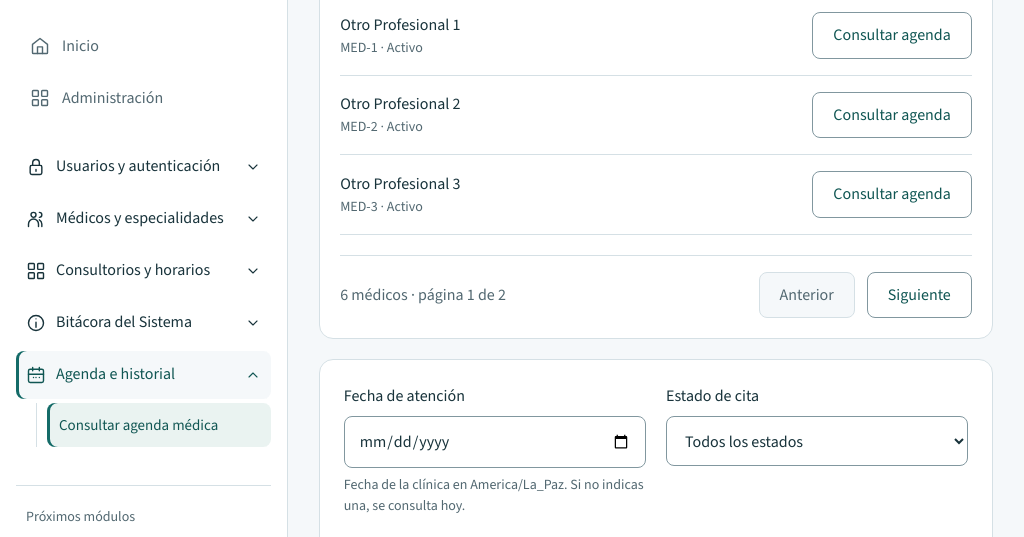
selector tiene búsqueda y paginación propias, sin alterar selección hasta elegir otro Médico
(page scrolled)
Click the button "Siguiente" at [919, 295], box [867,272,972,318]
(page scrolled)
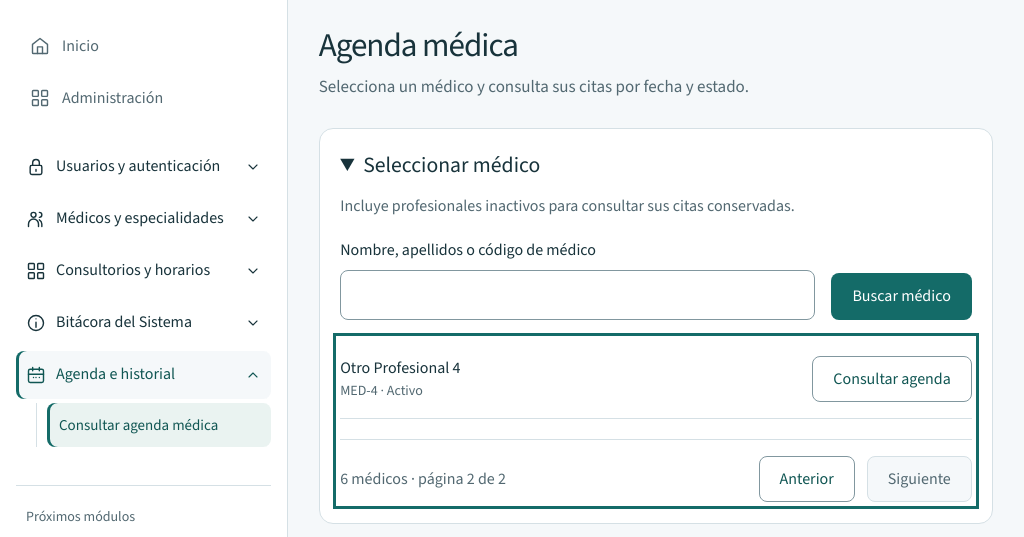
Check: the button with aria-label "Consultar agenda de Otro Profesional 4" is shown, box [812,356,972,402]
Type "Profesional 0" into the field labelled "Nombre, apellidos o código de médico" at [578, 295], box [340,270,815,320]
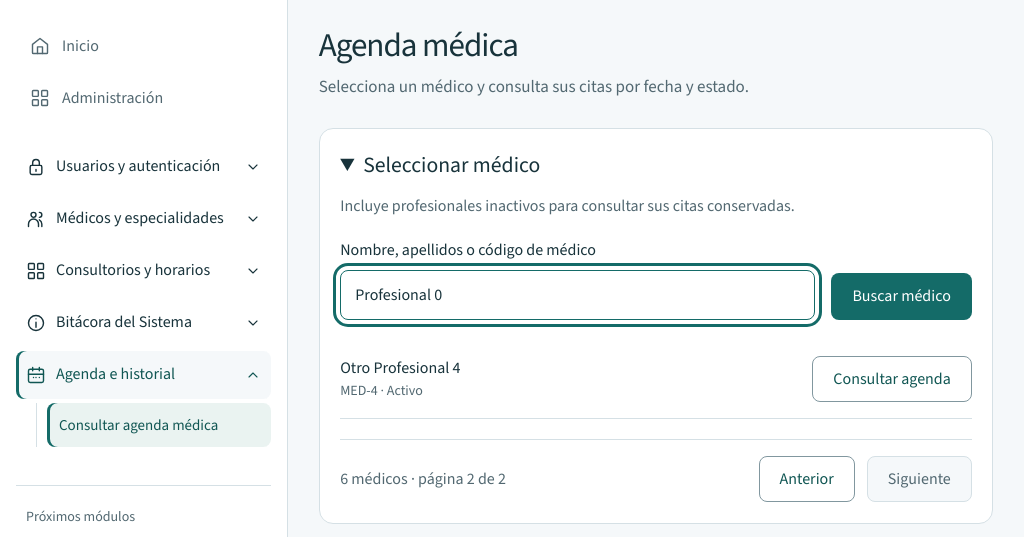
Click the button "Buscar médico" at [902, 296], box [831,273,972,320]
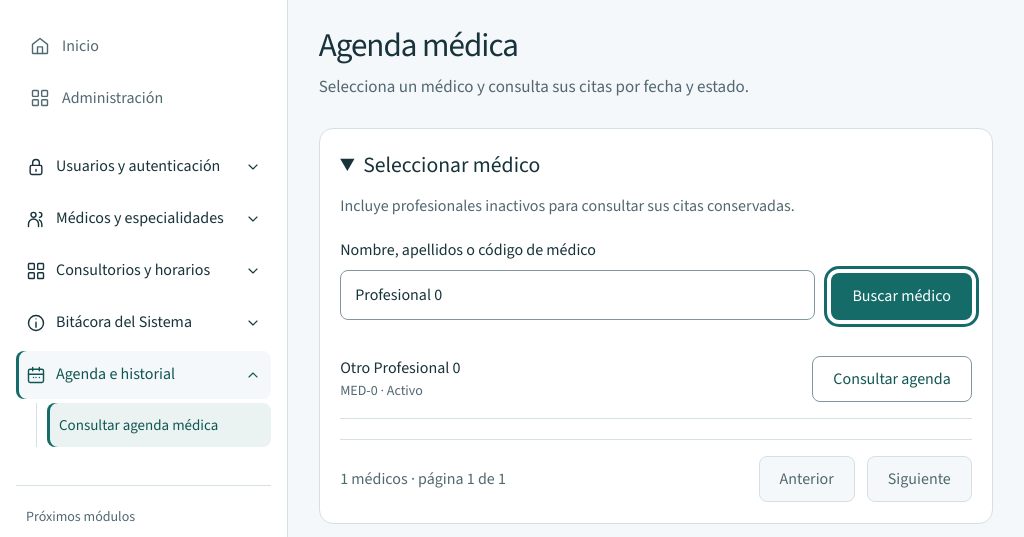
Click the button with aria-label "Consultar agenda de Otro Profesional 0" at [892, 379], box [812,356,972,402]
(page scrolled)
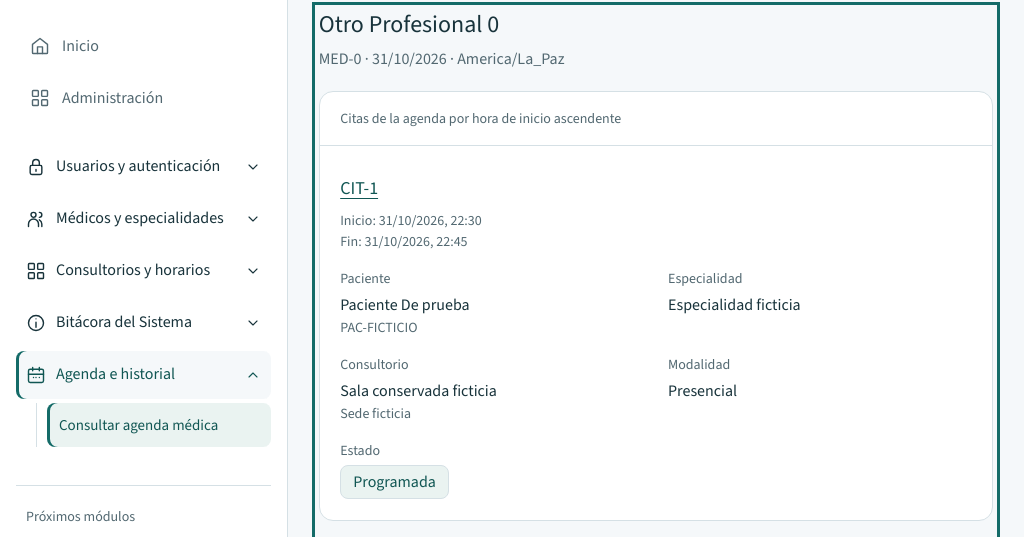
Check: the link with aria-label "Ver cita CIT-1" is shown, box [340,176,378,200]
